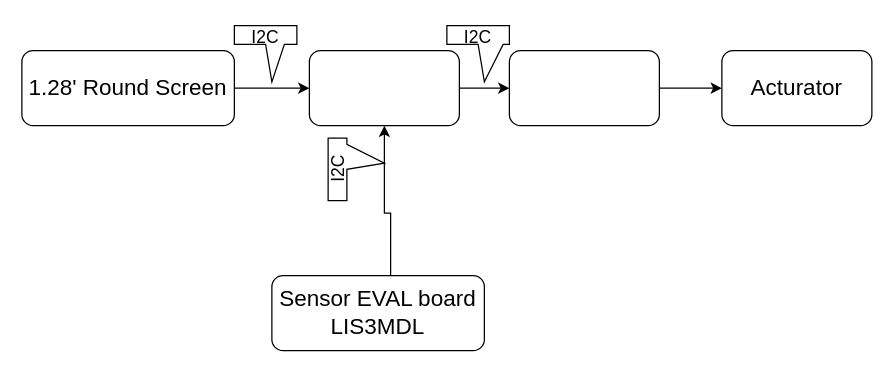
Image size: 894x373. Some labels were removed from this diagram. Here are the shapes that lost their labels. From the top down, the centre of each, then its label:
the point at 383,87: ESP32 (Arduino)
the point at 583,87: Haptic Driver
